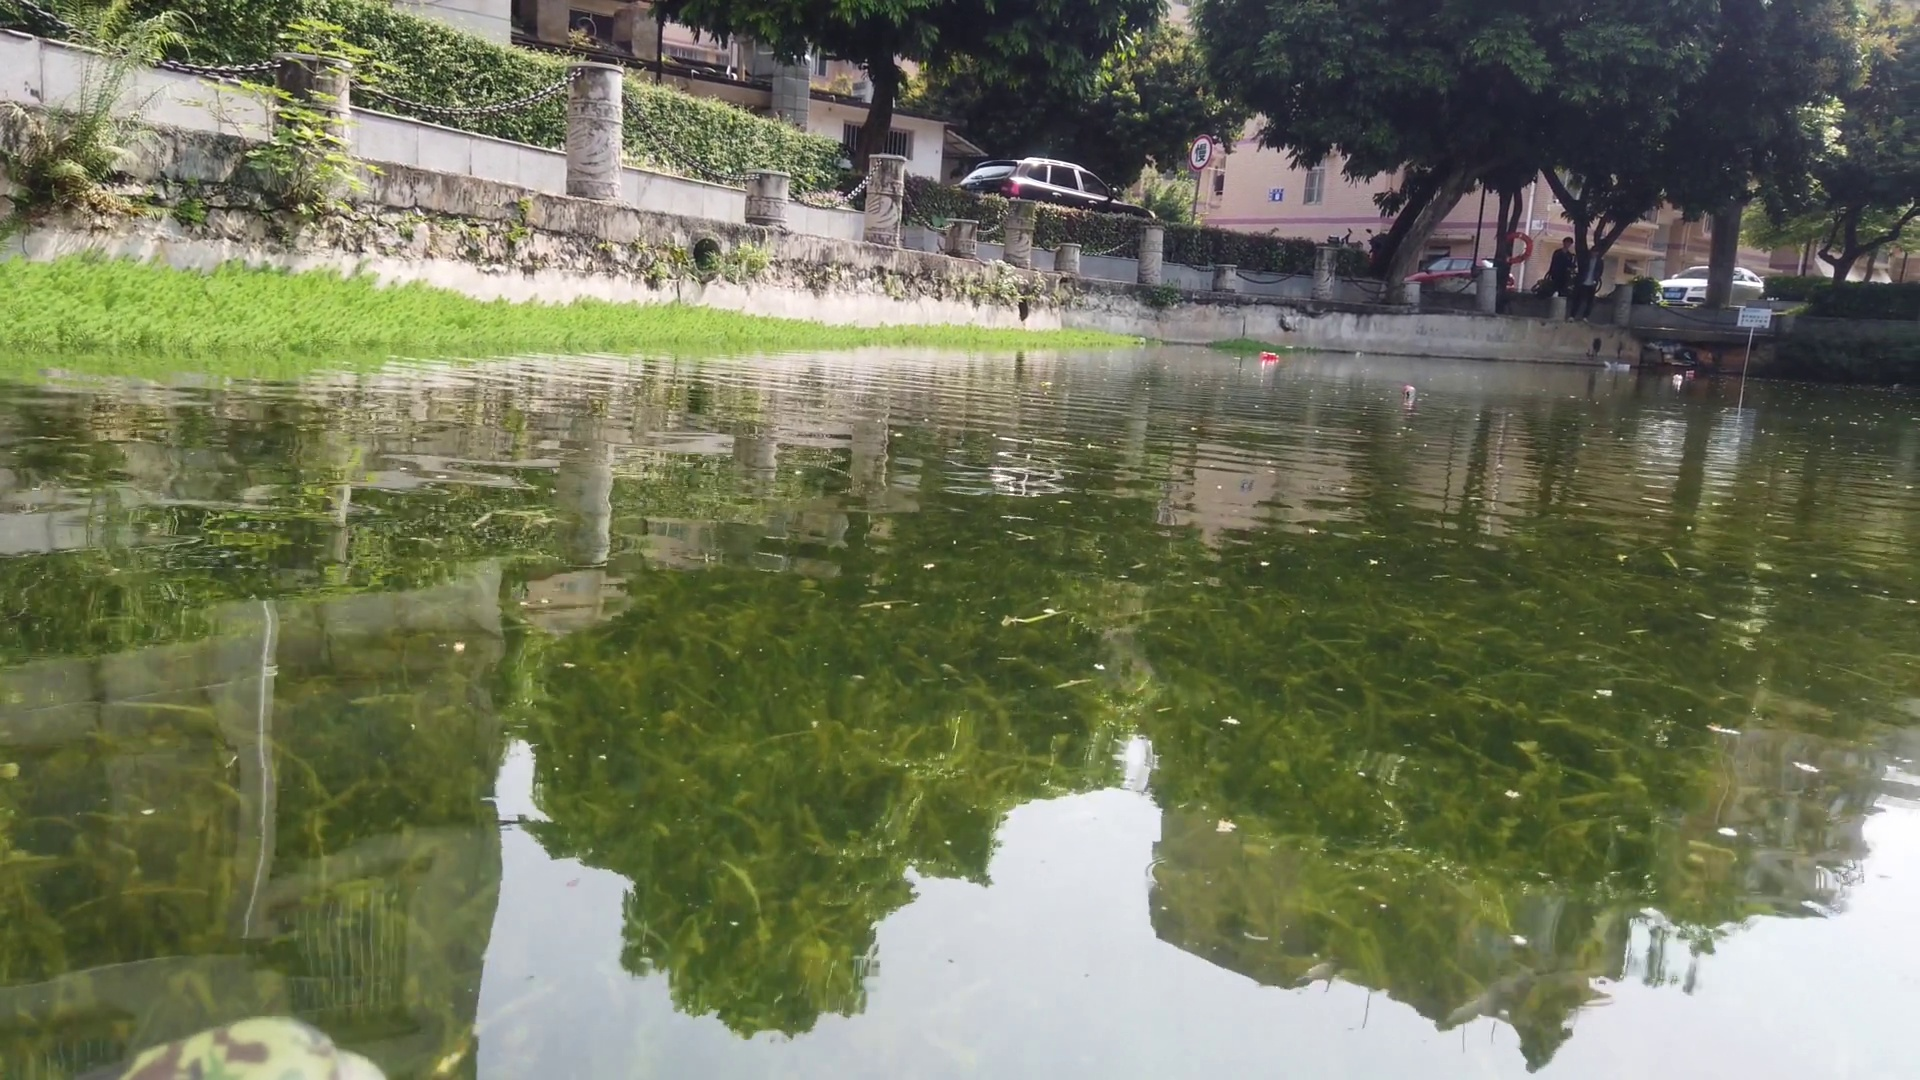bottle: (1255, 345, 1280, 364), (1400, 380, 1422, 401), (1669, 371, 1687, 385), (1683, 367, 1698, 378)
carton: (1617, 361, 1633, 375)
plastic: (1600, 355, 1611, 373)
